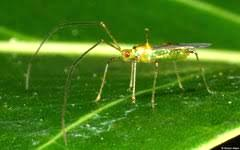Helopeltis-insect: (116, 39, 210, 68)
